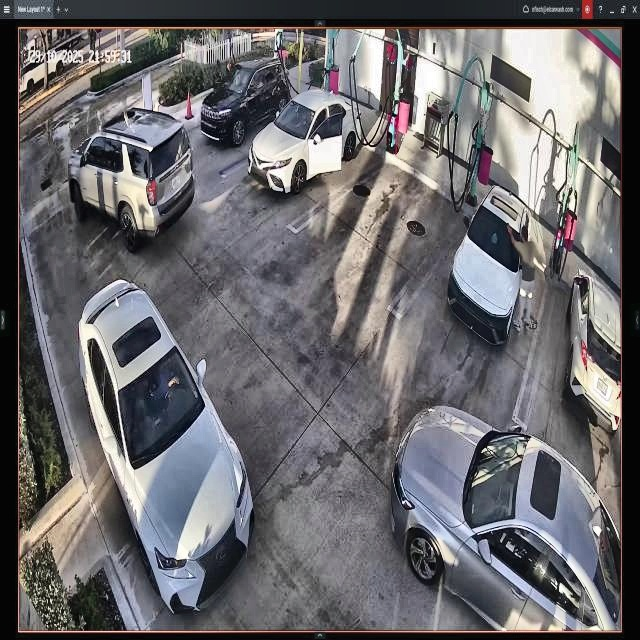Car: (79, 278, 256, 618), (393, 403, 620, 630), (68, 107, 196, 251), (449, 185, 531, 348), (249, 91, 362, 190)
